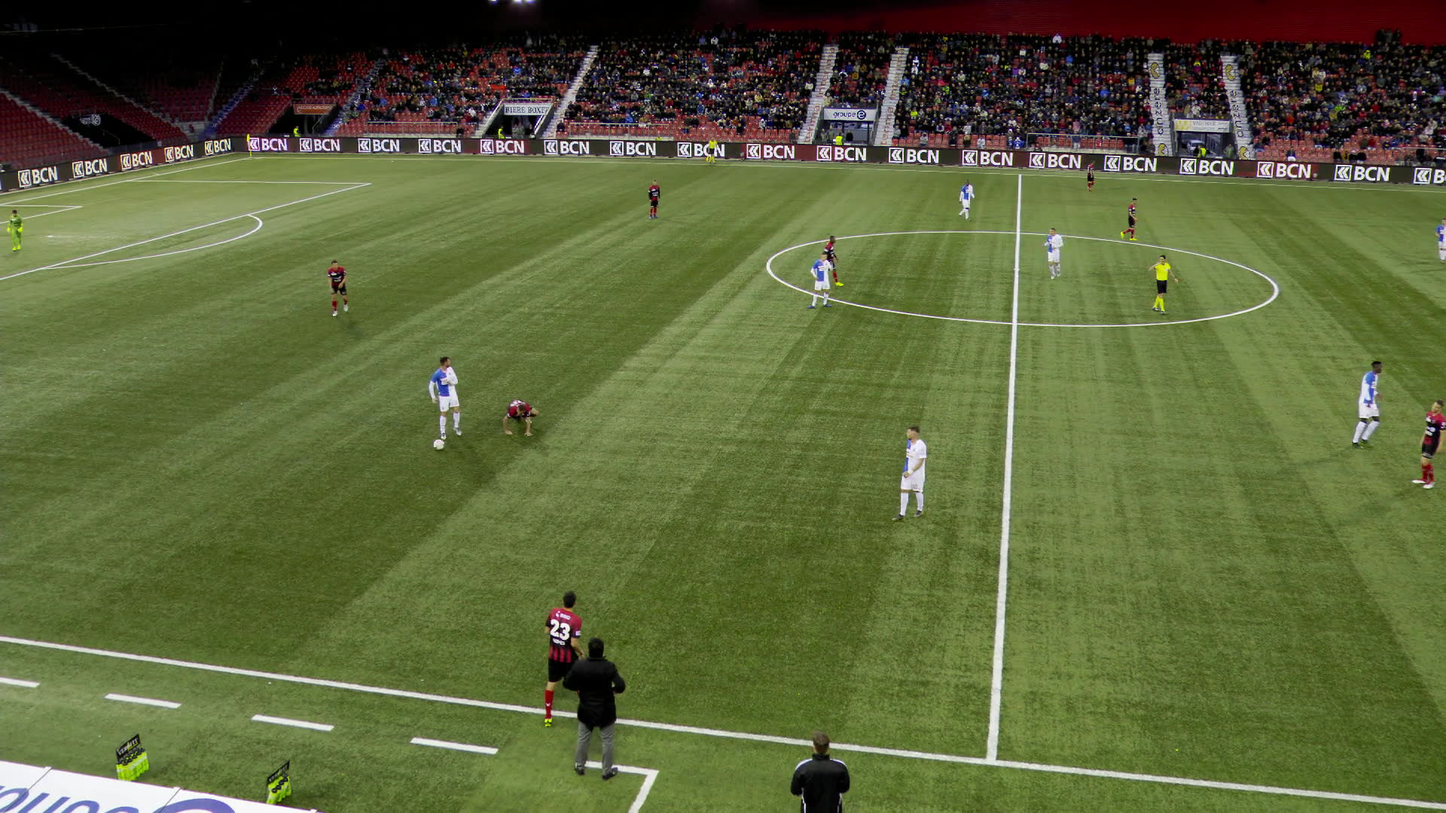ball: (433, 439, 444, 449)
player: (543, 590, 587, 726), (889, 424, 928, 520), (1350, 360, 1383, 451), (427, 355, 462, 440), (1411, 399, 1444, 488), (806, 252, 833, 309), (502, 400, 538, 435), (327, 260, 349, 315), (820, 233, 843, 285), (1042, 227, 1063, 279), (1116, 197, 1139, 240), (957, 179, 975, 221), (7, 209, 24, 251), (647, 179, 660, 219), (1435, 218, 1445, 264), (1084, 160, 1095, 193)
referee: (1147, 254, 1178, 314), (706, 135, 718, 163)
